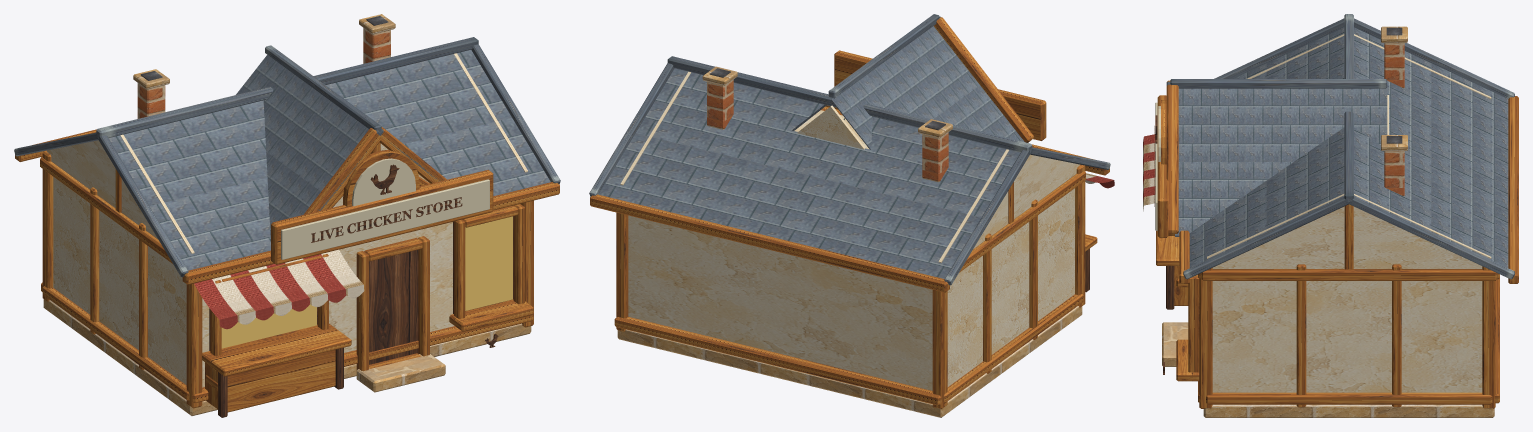
File: ChickenStore_Cozy_LOD1.fbx
3 views of the same model, side by side, from view 1: azimuth 30°, elevation 25°; view 2: azimuth 150°, elevation 25°; view 3: azimuth 270°, elevation 25° (orthographic). The views are drawn at different scales.
Parts seen in each view (by area): view 1: ChickenStore_Cozy_LOD1; view 2: ChickenStore_Cozy_LOD1; view 3: ChickenStore_Cozy_LOD1.
Part boxes in pixels (left/top/right/bottom): ChickenStore_Cozy_LOD1: left=14, top=14, right=560, bottom=417; ChickenStore_Cozy_LOD1: left=589, top=14, right=1114, bottom=417; ChickenStore_Cozy_LOD1: left=1143, top=14, right=1518, bottom=417.
Bounding box in the file's own units: 9 × 5.95 × 7.88.
